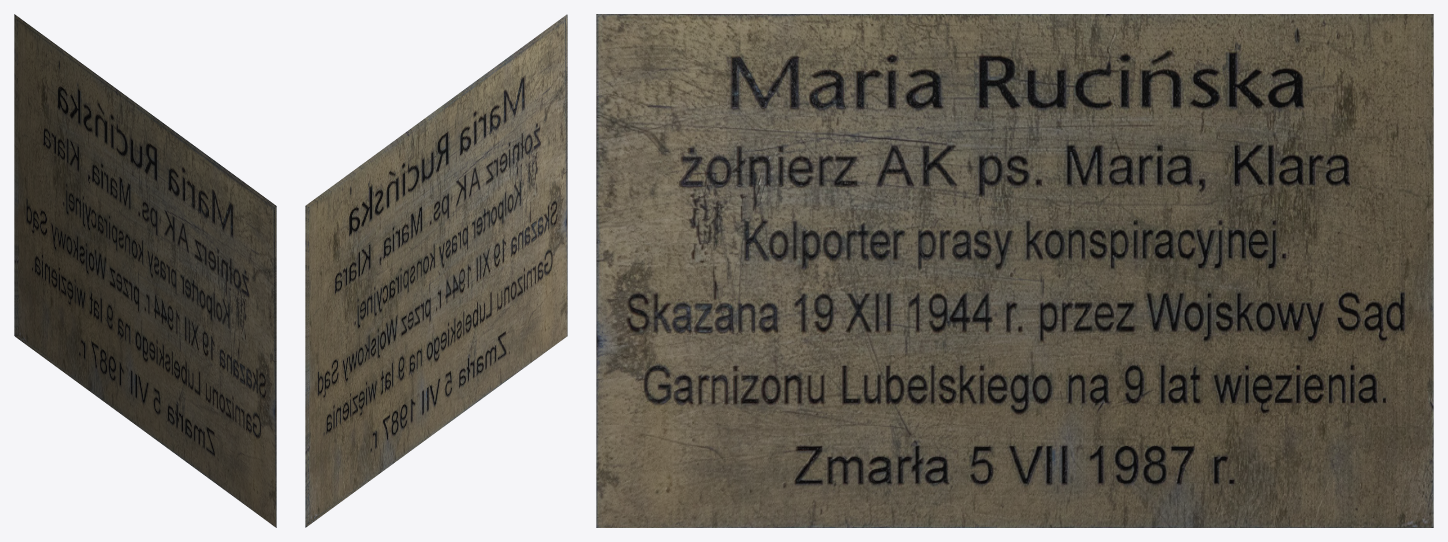
Rendered from 56. MARIA RUCIŃSKA.glb.
The picture shows the model from 3 angles, left to right: view 1: azimuth 30°, elevation 25°; view 2: azimuth 150°, elevation 25°; view 3: azimuth 270°, elevation 25°; orthographic projection. The views are drawn at different scales.
Parts seen in each view (by area): view 1: Plane; view 2: Plane; view 3: Plane.
Boxes of the visible parts, x1,y1,x2,y2 form: Plane: (14,14,276,527); Plane: (305,14,567,527); Plane: (596,14,1433,527).
Bounding box in the file's own units: 0.0102 × 10.5 × 15.5.
1 material, 1 textured.
